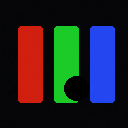2 circle: (64, 76, 88, 100)
